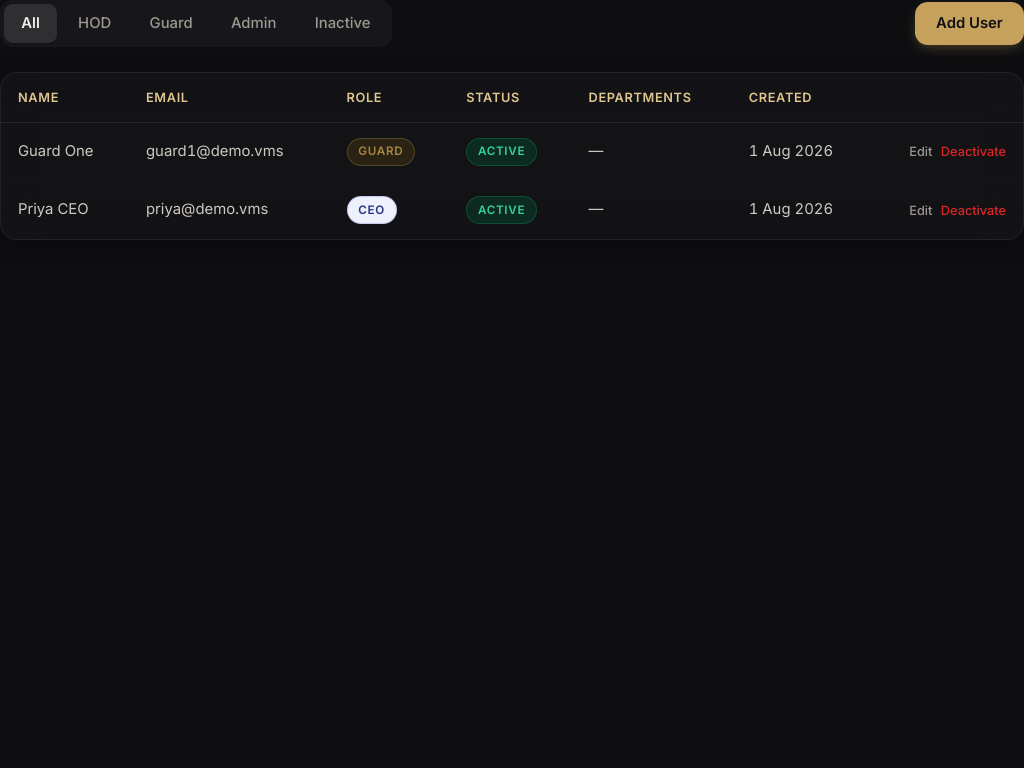
Scenario: Edit User — the four approval offices are selectable › pre-selects the OFFICE an office holder holds, never their VMS staff role
expect the text "Guard One" is shown: met, box [1,123,129,181]
Click the button "Edit" in the row of "Priya CEO": coordinates (921, 210) [909,202,932,218]
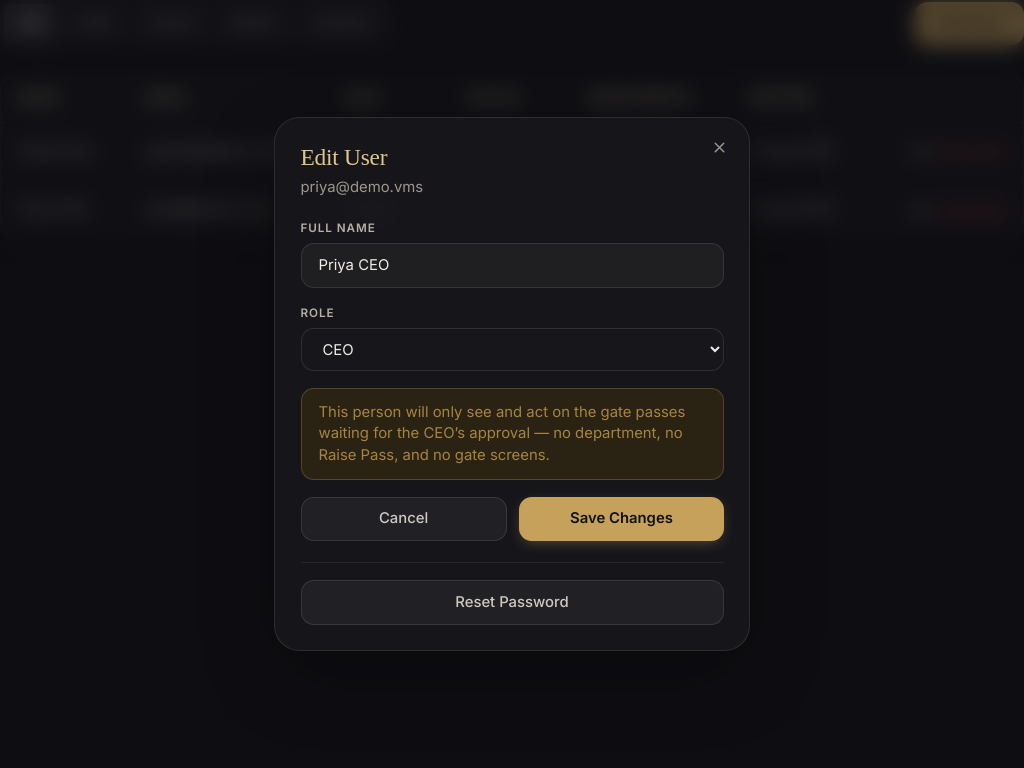
expect the dropdown labelled "Role" shows "CEO": met, box [300,328,724,371]
